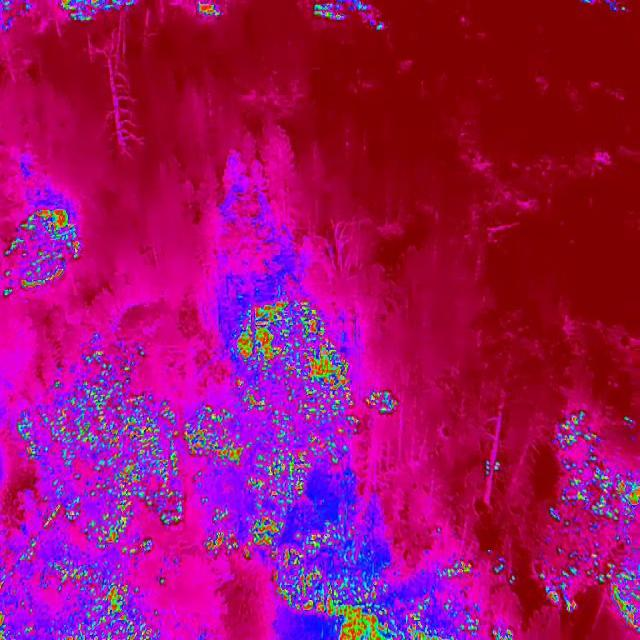fire: (0, 339, 183, 640), (184, 295, 358, 557), (272, 545, 519, 640), (535, 412, 640, 608), (0, 202, 84, 302), (309, 0, 387, 30), (53, 0, 137, 22), (367, 386, 405, 432), (193, 0, 220, 26), (620, 607, 640, 634)
